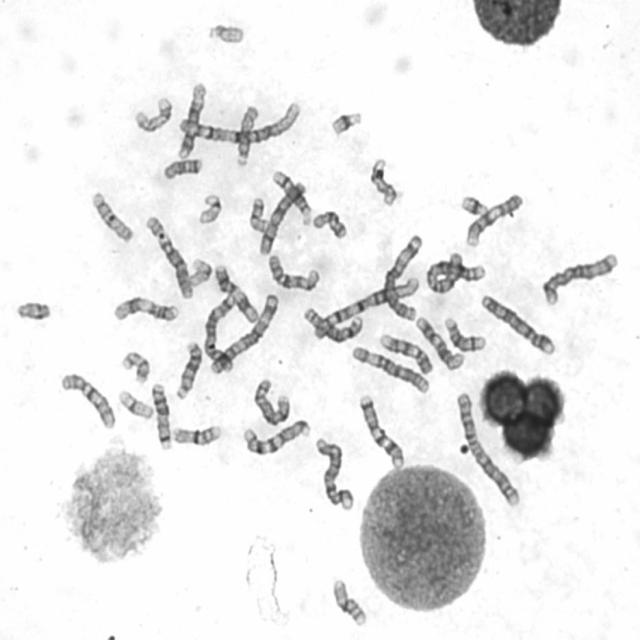A1: (307, 274, 421, 344), (175, 97, 303, 146)
A2: (453, 389, 522, 508), (424, 249, 490, 295)
A3: (204, 289, 280, 375), (380, 232, 424, 322)
B4: (478, 290, 557, 358), (313, 434, 355, 512)
B5: (540, 248, 620, 308), (201, 290, 238, 376)
C10: (57, 369, 117, 431), (265, 250, 321, 293)
C11: (210, 260, 260, 325), (110, 293, 182, 324)
C12: (413, 314, 465, 372), (175, 78, 208, 160)
C6: (142, 211, 195, 300), (348, 342, 432, 396)
C7: (355, 391, 406, 470), (239, 416, 311, 457)
C8: (300, 303, 365, 342), (250, 374, 292, 428)
C9: (463, 190, 524, 249), (376, 330, 436, 377)
D13: (172, 337, 204, 401), (148, 379, 174, 452)
D14: (268, 166, 313, 226), (442, 313, 488, 353)
D15: (88, 188, 136, 245), (232, 102, 260, 168)
E16: (329, 576, 368, 628), (169, 420, 223, 448)
E17: (131, 92, 174, 134), (367, 156, 401, 208)
E18: (310, 206, 348, 242), (159, 154, 204, 182)
F19: (115, 386, 155, 422), (186, 254, 214, 288)
F20: (118, 348, 151, 386), (246, 193, 271, 234)
G21: (328, 107, 363, 138), (458, 192, 490, 218)
G22: (204, 19, 246, 45), (196, 190, 224, 225)
X: (255, 177, 308, 256)
Y: (13, 298, 52, 322)
